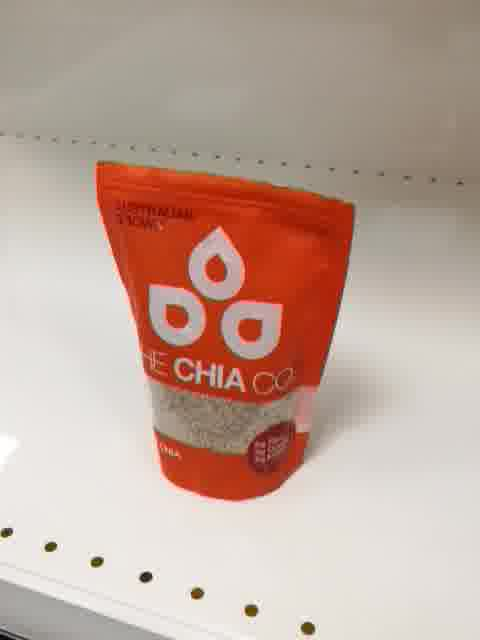whitechia: (90, 155, 359, 505)
